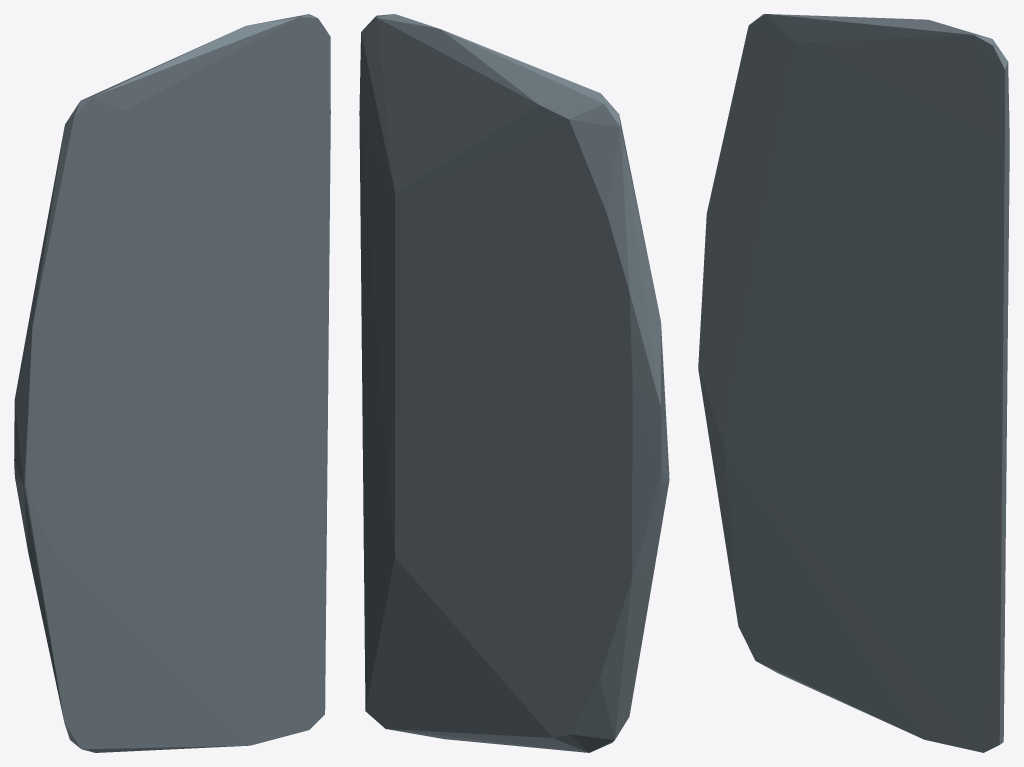
The model's file is brakeSystem_brake_pad_a01.glb.
3 renders of one model, left to right at view 1: azimuth 30°, elevation 25°; view 2: azimuth 150°, elevation 25°; view 3: azimuth 330°, elevation 25°, orthographic.
Visible parts, largest first — view 1: geometry_0; view 2: geometry_0; view 3: geometry_0.
Boxes of the visible parts, x1,y1,x2,y2 form: geometry_0: [14, 14, 330, 752]; geometry_0: [359, 14, 669, 752]; geometry_0: [698, 14, 1009, 752].
Size of the model in its own units: 0.2157 by 0.4796 by 0.0179.
